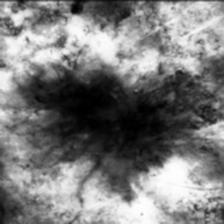Potentially Malignant Skin Tumors: (37, 66, 218, 178)
